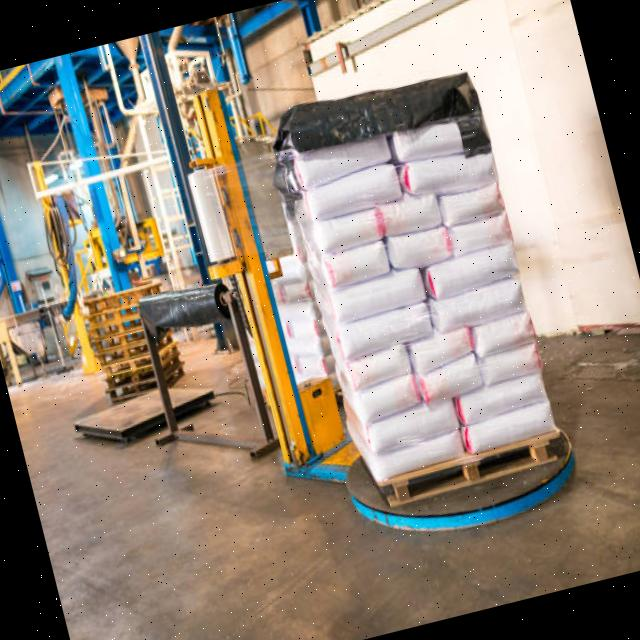Wooden-Pallets: (380, 430, 571, 511)
